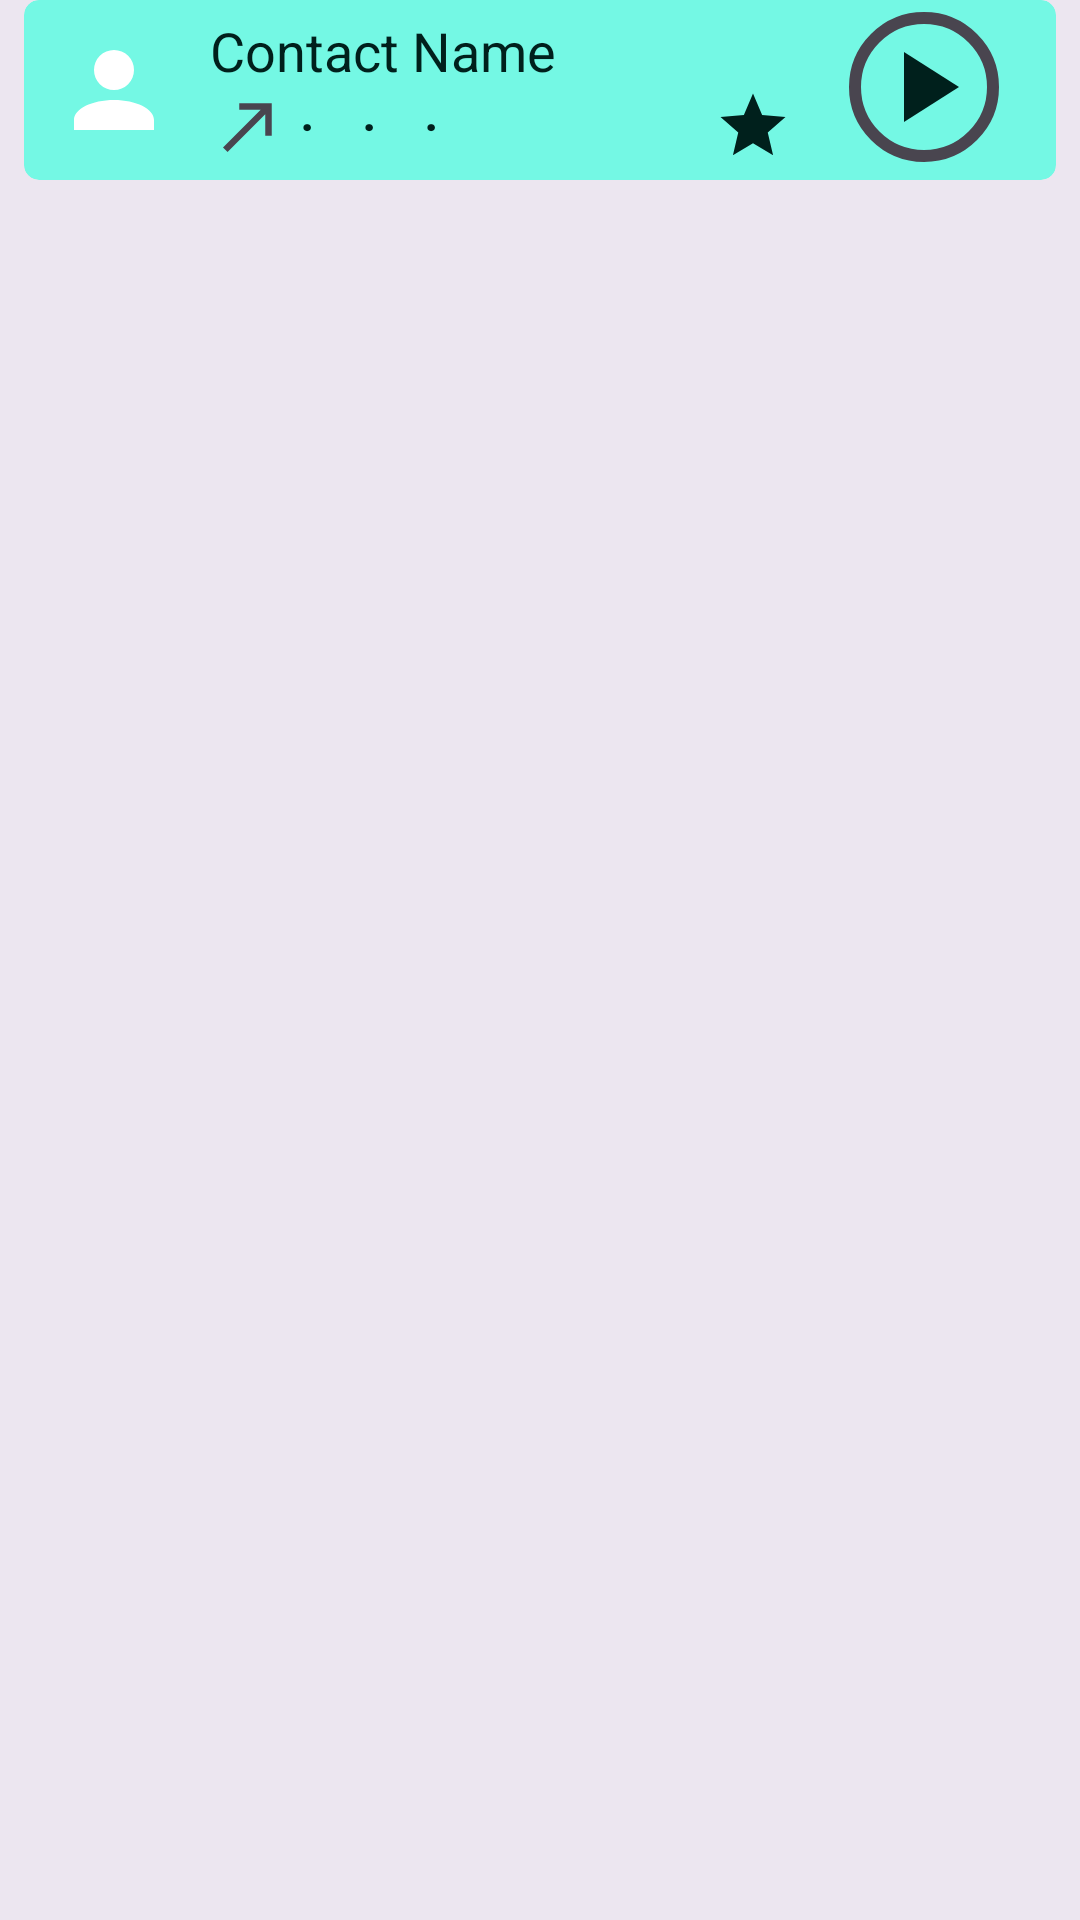

Icon bounding boxes for this 1080px×1920px phone screenshot, format bbox(x1, y1, x2, y2):
Favourites: bbox(721, 94, 785, 155)
out: bbox(223, 103, 272, 152)
play: bbox(849, 12, 999, 162)
